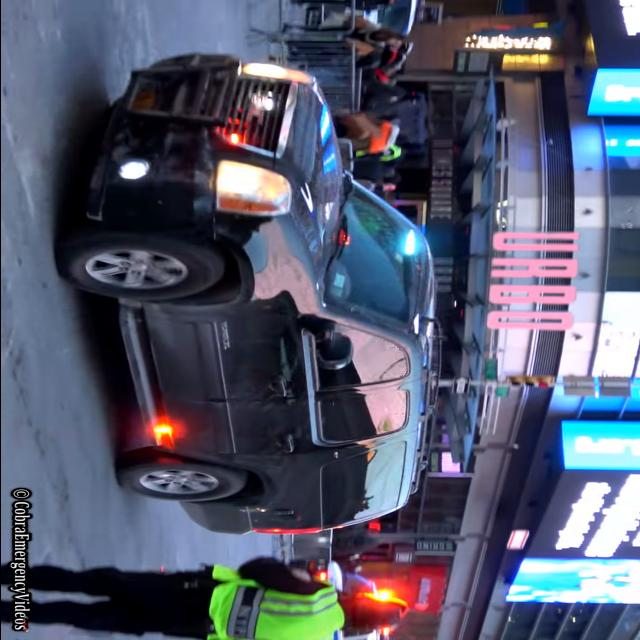emergency-vehicles: (80, 54, 456, 548)
